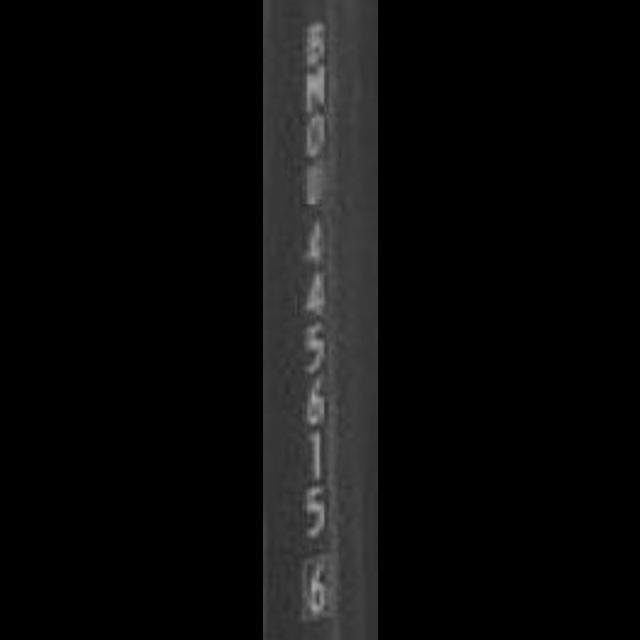1: (292, 429, 334, 486)
4: (291, 266, 339, 326), (296, 214, 334, 268)
5: (288, 322, 336, 384), (295, 481, 335, 542)
6: (292, 378, 334, 432), (301, 553, 333, 623)
b: (286, 155, 338, 213), (286, 14, 340, 66)
n: (292, 61, 336, 115)
o: (291, 109, 335, 159)
